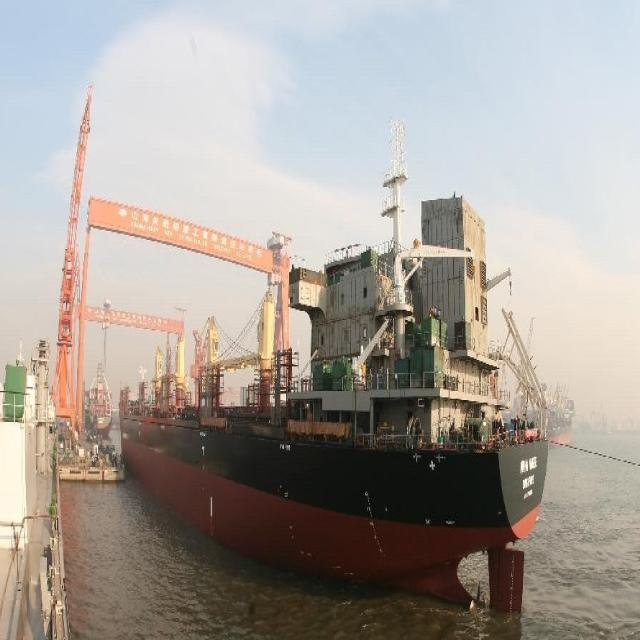cargoship: (118, 198, 562, 591)
